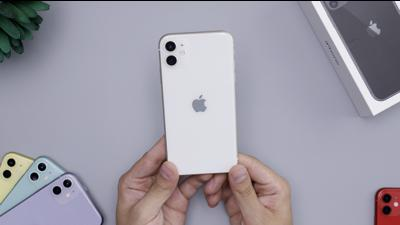cell-phone: (157, 29, 247, 184)
